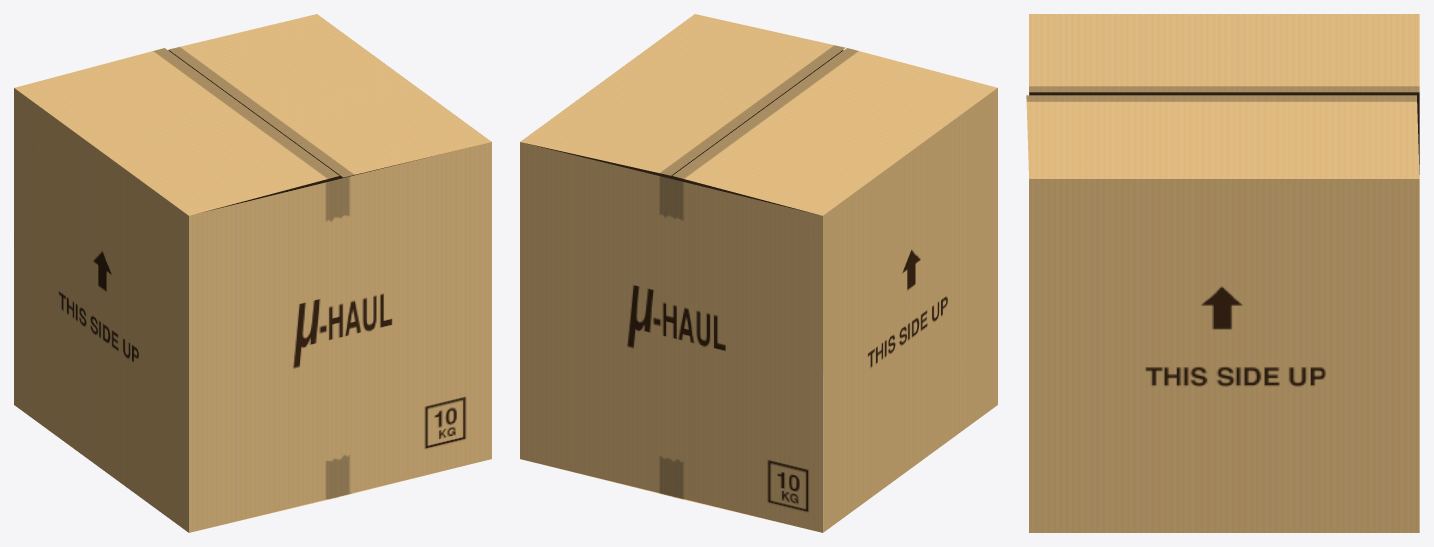
3 renders of one model, left to right at view 1: azimuth 30°, elevation 25°; view 2: azimuth 150°, elevation 25°; view 3: azimuth 270°, elevation 25°, orthographic. The views are drawn at different scales.
Visible parts, largest first — view 1: moving-box; view 2: moving-box; view 3: moving-box.
Part boxes in pixels (<box>): moving-box: <box>14,14,491,532</box>; moving-box: <box>520,14,997,532</box>; moving-box: <box>1026,14,1419,532</box>.
Bounding box in the file's own units: 2 × 2.03 × 2.01.
1 material, 1 textured.
